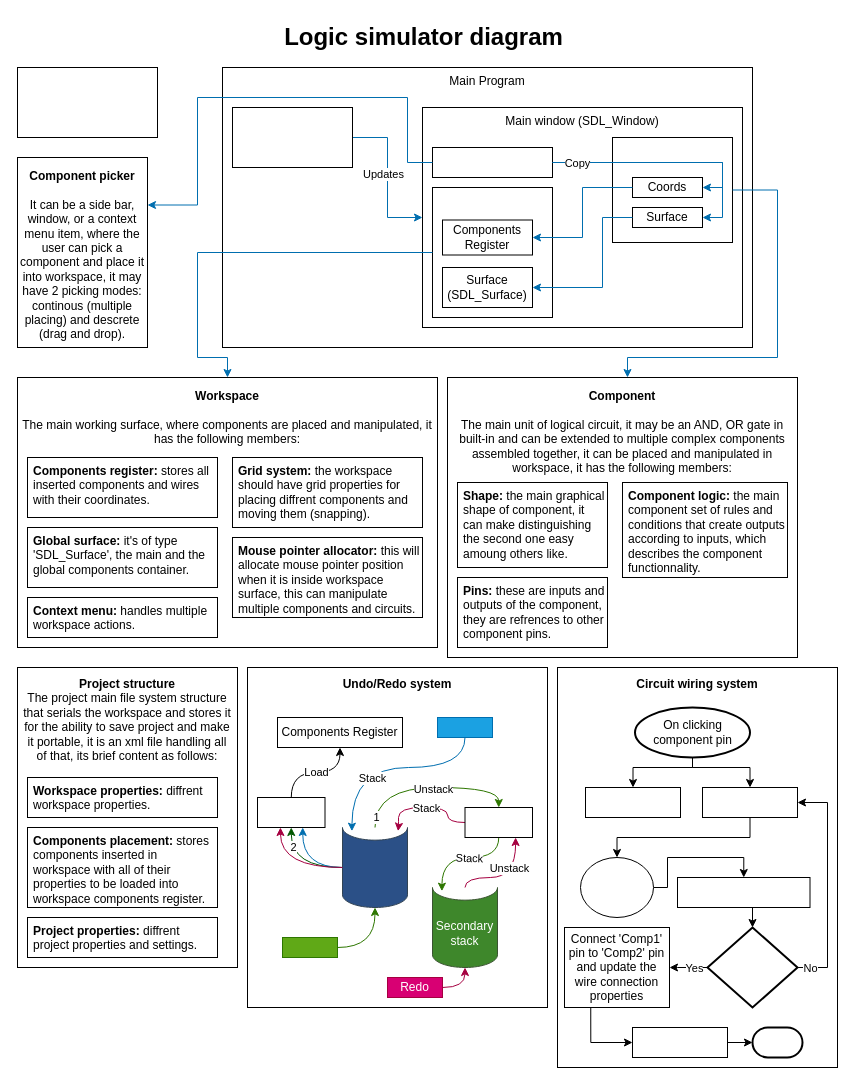
The diagram is 855 pixels wide and 1085 high, and some of its shapes have lost their labels. The centre of each missing label's shape, as x and y in pixels:
"Action" goes at pixel 464 727.
"Brief: Language: C++ Libary: SDL2" goes at pixel 87 102.
"Component picker" goes at pixel 492 162.
"Finish" goes at pixel 777 1042.
"Get mouse pointer location" goes at pixel 617 887.
"Main renderer (SDL_Renderer)" goes at pixel 292 137.
"Mouse clicked again ?" goes at pixel 752 967.
"On mouse move" goes at pixel 750 802.
"Primary stack" goes at pixel 375 867.
"Set wiring mode off" goes at pixel 680 1042.
"Set wiring mode on" goes at pixel 632 802.
"Top item" goes at pixel 290 812.
"Undo" goes at pixel 310 947.
"Unstacked item" goes at pixel 498 822.
"Update and draw wire" goes at pixel 743 892.
